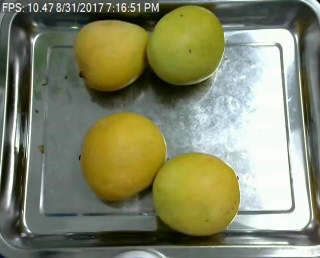Mango: (80, 111, 168, 200), (155, 153, 240, 235), (149, 6, 224, 83), (73, 22, 146, 89)
